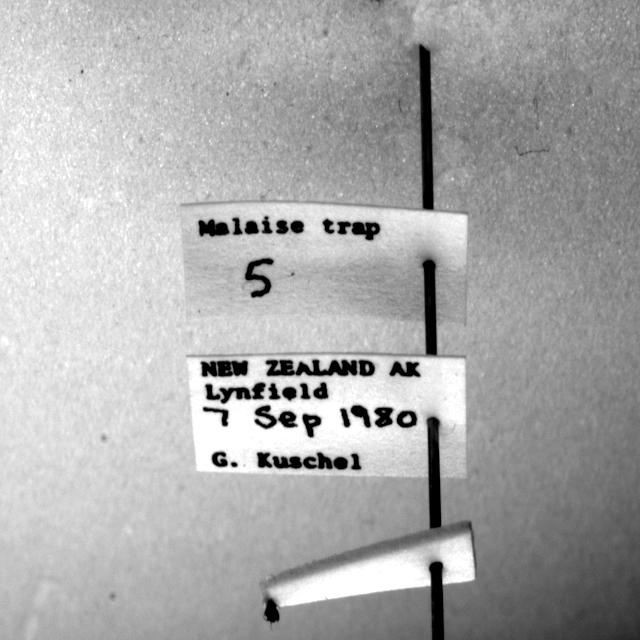mixed_label: (181, 202, 468, 324), (188, 354, 466, 478)
